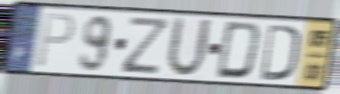9: (78, 13, 114, 73)
D: (213, 20, 263, 82), (259, 22, 301, 83)
P: (34, 12, 77, 70)
U: (164, 14, 214, 80)
Z: (120, 14, 173, 76)
